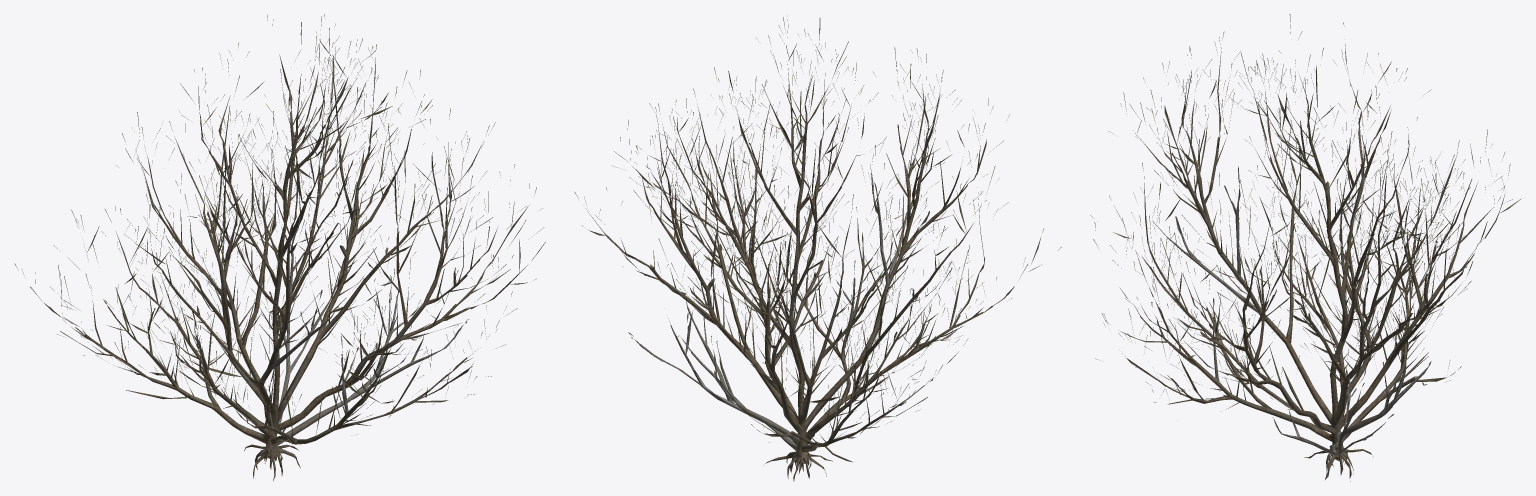
The model's file is willow0.glb.
3 renders of one model, left to right at view 1: azimuth 30°, elevation 25°; view 2: azimuth 150°, elevation 25°; view 3: azimuth 270°, elevation 25°, orthographic. The views are drawn at different scales.
Parts seen in each view (by area): view 1: Salix_elaeagnos_HD_Salix elaeag twig 3_0, Salix_elaeagnos_HD_Salix elaeag bark 1_0, Salix_elaeagnos_HD_Salix elaeag dead wood_0; view 2: Salix_elaeagnos_HD_Salix elaeag twig 3_0, Salix_elaeagnos_HD_Salix elaeag bark 1_0, Salix_elaeagnos_HD_Salix elaeag dead wood_0; view 3: Salix_elaeagnos_HD_Salix elaeag bark 1_0, Salix_elaeagnos_HD_Salix elaeag twig 3_0, Salix_elaeagnos_HD_Salix elaeag dead wood_0.
Part boxes in pixels (left/top/right/bottom): Salix_elaeagnos_HD_Salix elaeag twig 3_0: left=14, top=14, right=545, bottom=443; Salix_elaeagnos_HD_Salix elaeag bark 1_0: left=72, top=92, right=493, bottom=481; Salix_elaeagnos_HD_Salix elaeag dead wood_0: left=269, top=216, right=465, bottom=446; Salix_elaeagnos_HD_Salix elaeag twig 3_0: left=574, top=17, right=1061, bottom=462; Salix_elaeagnos_HD_Salix elaeag bark 1_0: left=621, top=97, right=1006, bottom=481; Salix_elaeagnos_HD_Salix elaeag dead wood_0: left=629, top=165, right=929, bottom=452; Salix_elaeagnos_HD_Salix elaeag bark 1_0: left=1134, top=97, right=1483, bottom=481; Salix_elaeagnos_HD_Salix elaeag twig 3_0: left=1090, top=14, right=1521, bottom=411; Salix_elaeagnos_HD_Salix elaeag dead wood_0: left=1153, top=167, right=1430, bottom=456.
Size of the model in its own units: 1.87 by 1.99 by 1.69.
7 materials, 7 textured.
